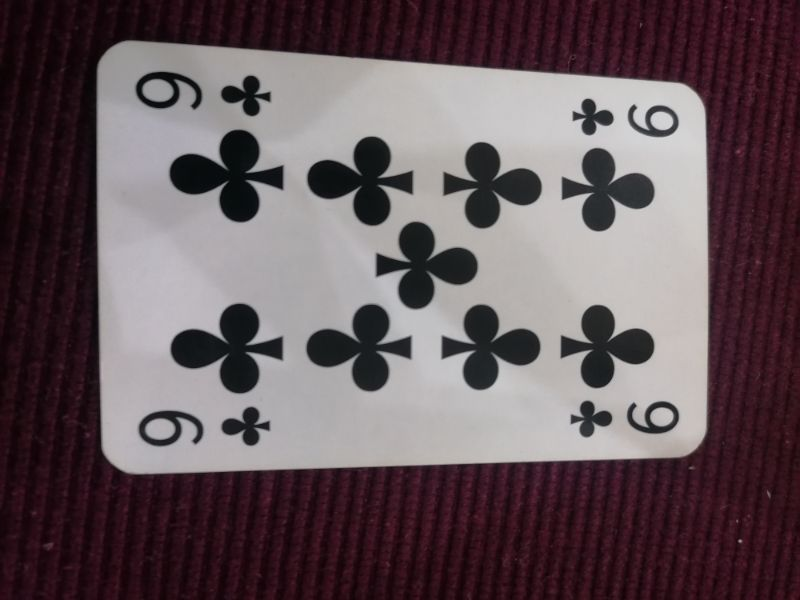9c: (128, 66, 275, 123), (135, 404, 278, 450), (568, 93, 681, 141), (570, 397, 683, 440)
